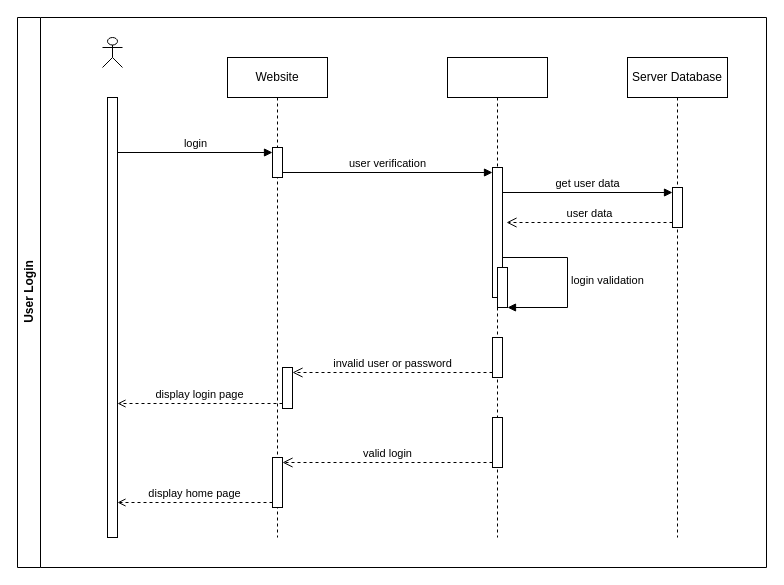
This 784x585 diagram has some shape labels left out. Each missing label, with the centre of its shape:
"Backend Service" belongs at point (497, 297).
"User" belongs at point (112, 52).
